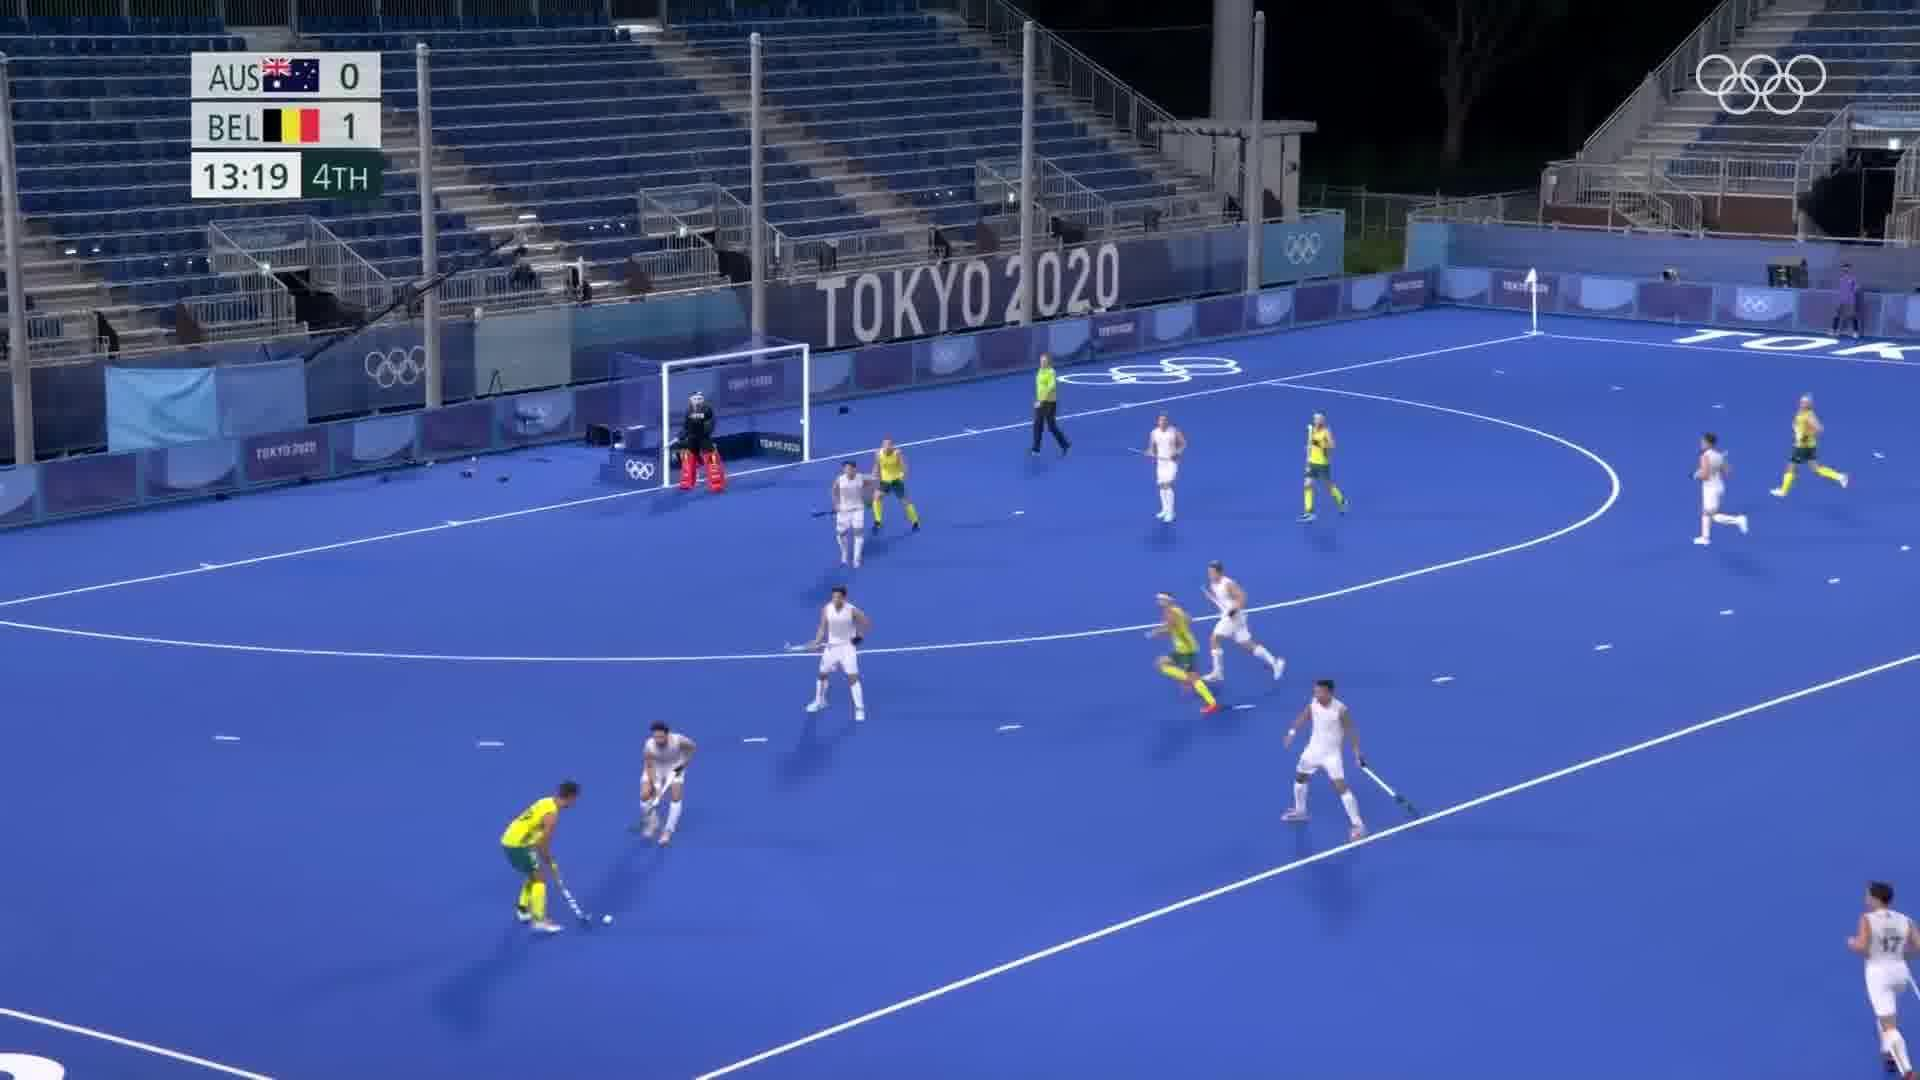ball: (597, 911, 620, 931)
